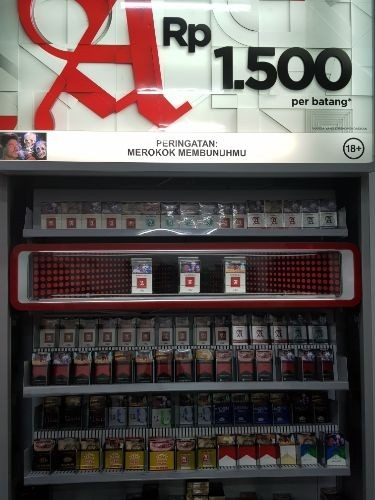A Mild 12: (226, 272, 245, 294), (133, 274, 151, 295), (181, 273, 199, 293), (99, 329, 116, 348), (81, 328, 97, 348), (61, 329, 76, 347), (40, 331, 56, 347)
A Mild 16: (62, 213, 82, 230), (81, 214, 102, 230), (42, 214, 60, 230)
A Mild Menthol 16: (141, 213, 160, 230), (161, 215, 180, 230), (181, 214, 200, 229), (201, 214, 218, 230)
Avolution Menthol 20: (308, 326, 328, 346), (291, 326, 307, 346)
Avolution Red 20: (231, 325, 249, 346), (252, 326, 270, 346), (271, 325, 289, 345)
Dji Jam Soe Super Premium 12: (34, 450, 55, 471), (56, 450, 76, 472)
Dji Sam Soe 12: (123, 451, 146, 471), (81, 452, 102, 471), (104, 450, 124, 469)
Dji Sam Soe 16: (146, 451, 175, 471)
Marlboro Filter Black 20: (213, 359, 237, 382), (273, 360, 300, 380), (173, 358, 194, 382), (133, 362, 154, 384), (196, 359, 215, 383), (91, 363, 112, 384), (155, 360, 174, 383), (236, 359, 255, 382), (70, 364, 90, 385), (112, 364, 133, 383), (256, 362, 275, 382), (51, 364, 69, 385), (301, 360, 319, 381), (32, 364, 49, 384)
Marlboro Ice Burst 20: (322, 445, 346, 467), (298, 445, 319, 465)
Marlboro Light 20: (279, 442, 297, 469)
Marlboro Red 20: (257, 444, 278, 467), (217, 445, 237, 467), (238, 445, 258, 466)
Sampoerna Hijau 12: (196, 448, 217, 469), (175, 450, 196, 470)
U Mild 16: (177, 404, 195, 427), (128, 407, 146, 429), (196, 405, 214, 427), (110, 407, 126, 429)
U Mild Cool 16: (150, 407, 171, 428)
display-amild: (1, 1, 375, 164)
